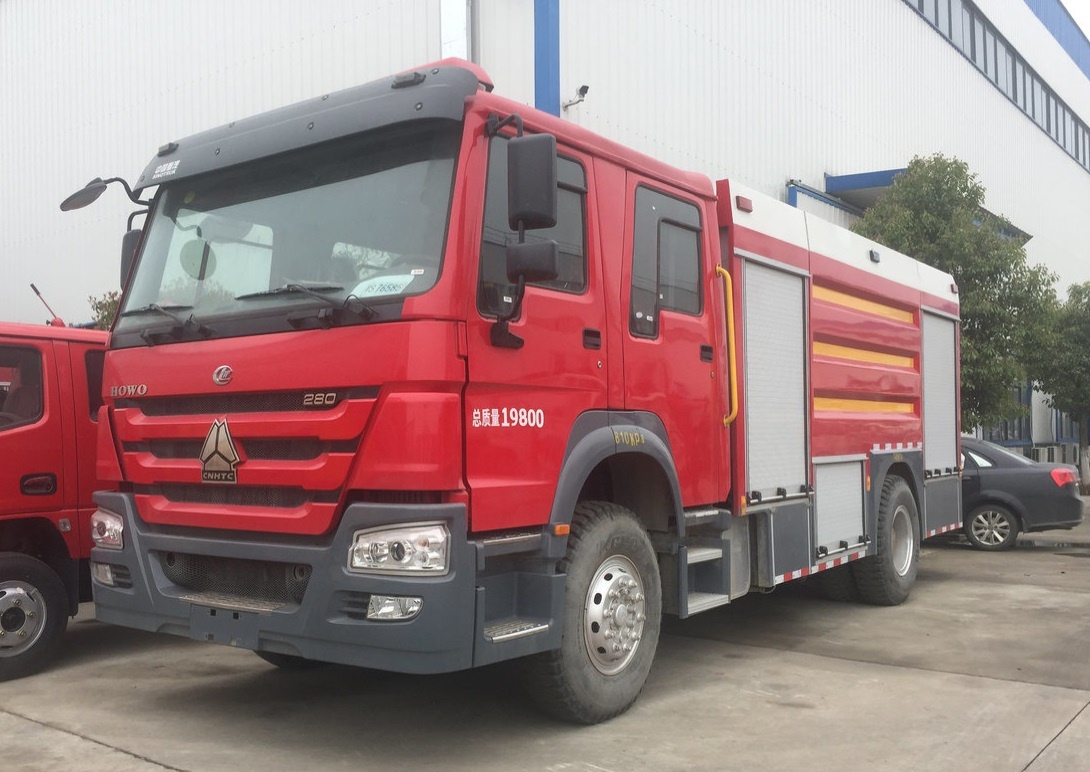fire engine: (77, 89, 974, 725)
